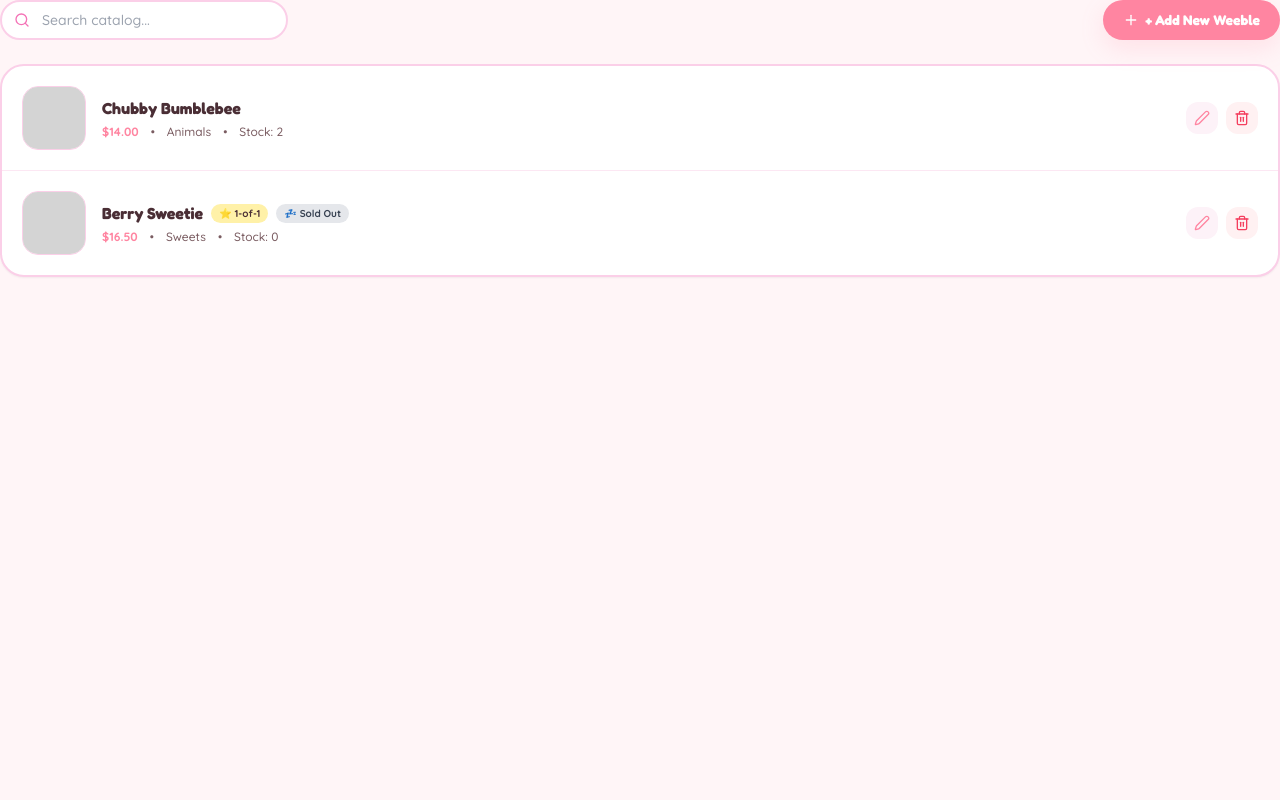
Test case: InventoryTab › opens editor modal with product data when clicking edit
Click the button named "Edit" in the row of "Chubby Bumblebee". click: (1202, 118)
box: [1186, 102, 1218, 134]
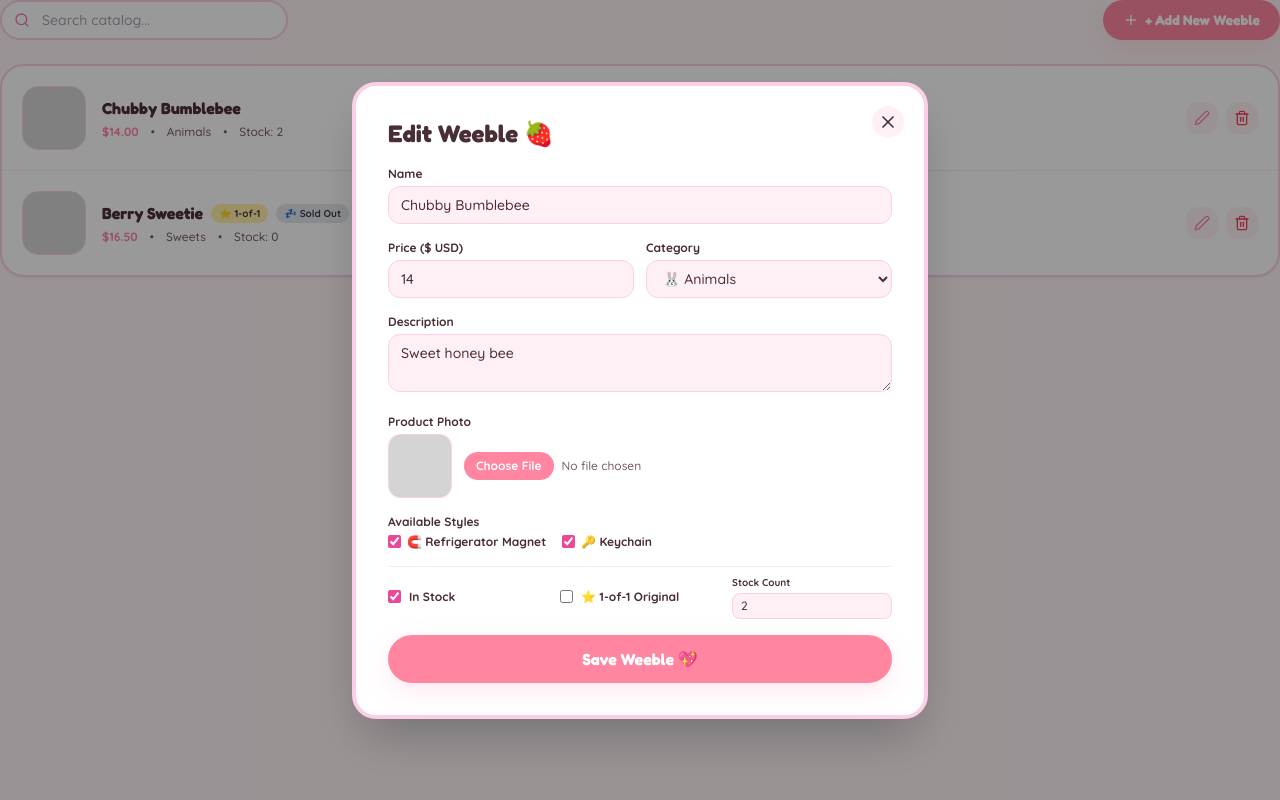
Now the heading "Edit Weeble 🍓" is shown, box [388, 118, 554, 148]
Now the field showing "Chubby Bumblebee" is shown, box [388, 186, 892, 224]
